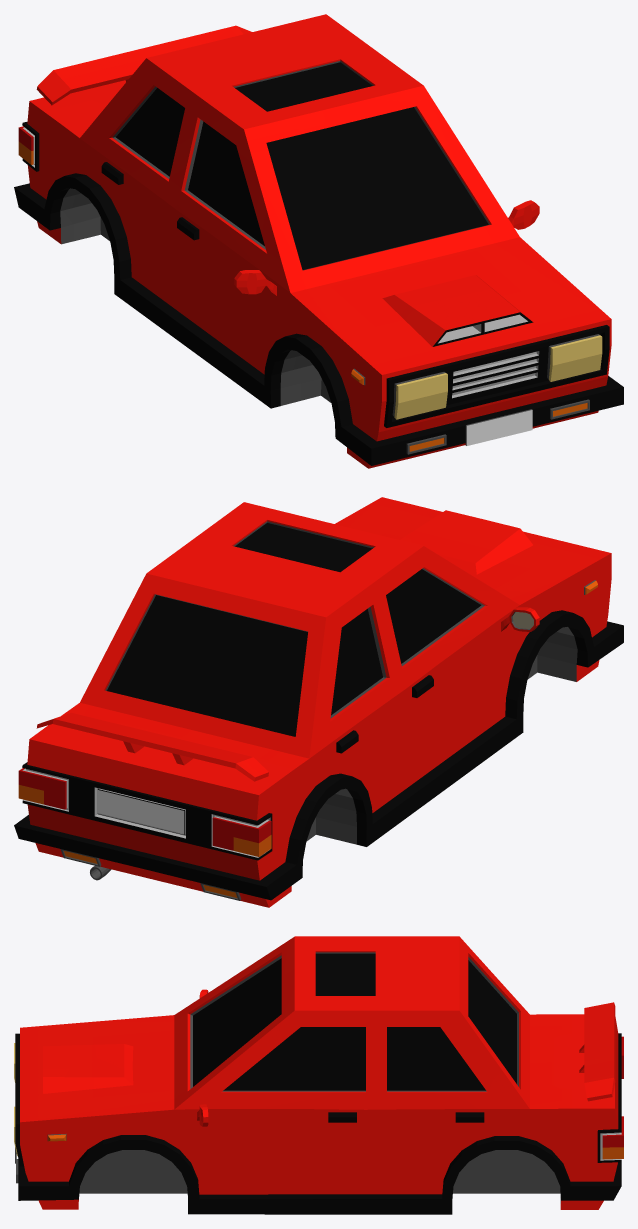
File: LongCar.fbx
The picture shows the model from 3 angles, top to bottom: view 1: azimuth 30°, elevation 25°; view 2: azimuth 150°, elevation 25°; view 3: azimuth 270°, elevation 25°; orthographic projection. The views are drawn at different scales.
Parts seen in each view (by area): view 1: LongCar.Body.Mesh; view 2: LongCar.Body.Mesh; view 3: LongCar.Body.Mesh.
Part boxes in pixels (x1=…): LongCar.Body.Mesh: x1=14, y1=14, x2=623, y2=468; LongCar.Body.Mesh: x1=14, y1=497, x2=623, y2=907; LongCar.Body.Mesh: x1=14, y1=936, x2=623, y2=1214.
Size of the model in its own units: 0.8453 by 0.6357 by 1.74.
